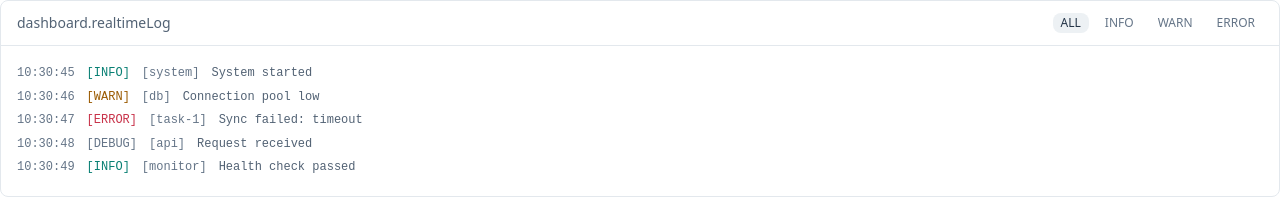
Test: LogConsole › filter buttons › filters logs to INFO level only
Step 1. Click the button "INFO" → (1119, 23), box [1097,13,1142,33]
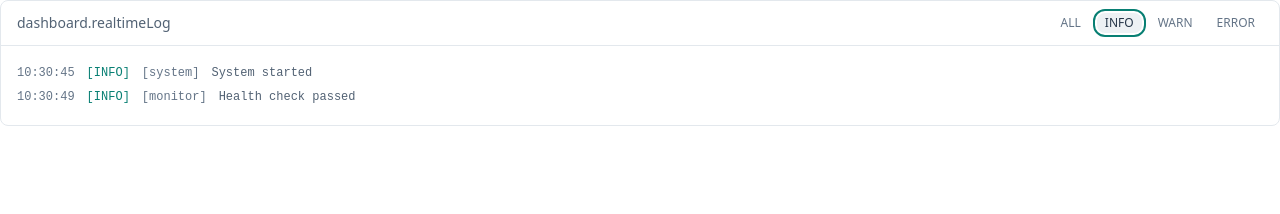
Expected: the text "Health check passed" is shown, [219,88,356,107]
Expected: the text "Connection pool low" is gone
Expected: the text "Sync failed: timeout" is gone
